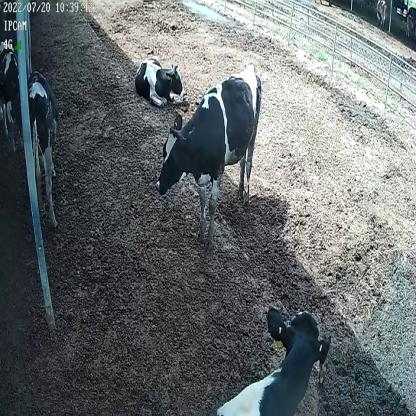cow: (157, 63, 264, 244), (216, 303, 332, 416), (24, 66, 62, 228), (134, 50, 188, 106)
